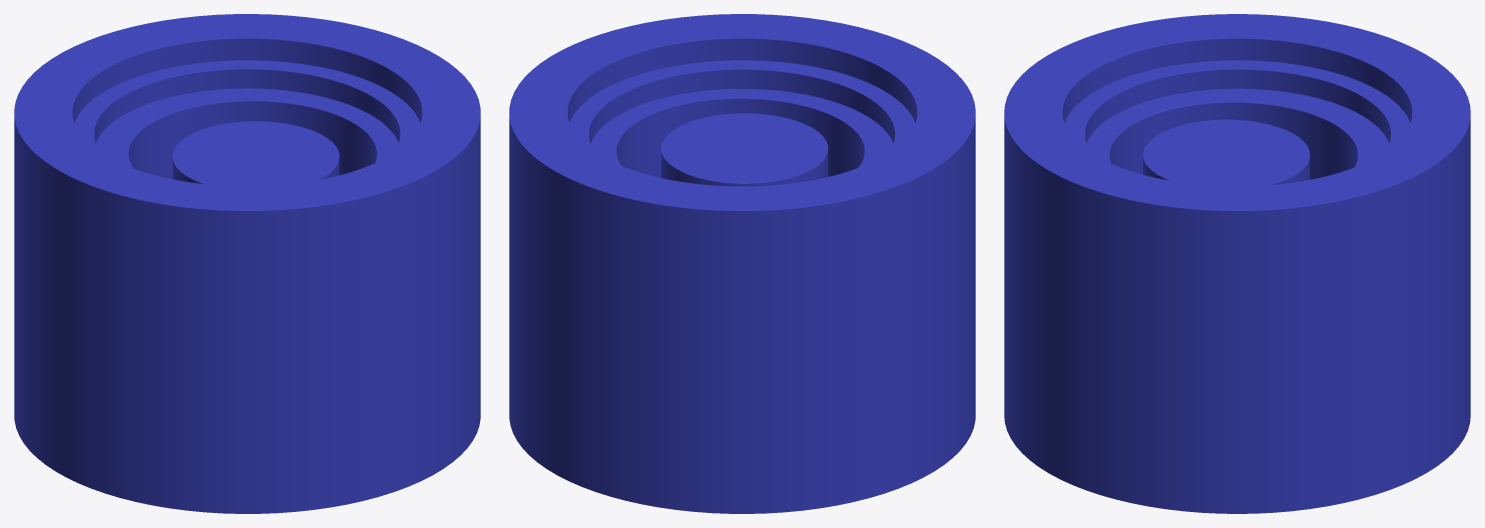
The model's file is JEU DU MOIS ARENE 2.fbx.
The picture shows the model from 3 angles, left to right: view 1: azimuth 30°, elevation 25°; view 2: azimuth 150°, elevation 25°; view 3: azimuth 270°, elevation 25°; orthographic projection.
Parts seen in each view (by area): view 1: root (×4); view 2: root (×4); view 3: root (×4).
Part boxes in pixels (x1,y1,x2,y2): root (×4): [14, 14, 480, 513]; root (×4): [509, 14, 975, 513]; root (×4): [1004, 14, 1470, 513].
Bounding box in the file's own units: 0.5299 × 0.3795 × 0.5299.
